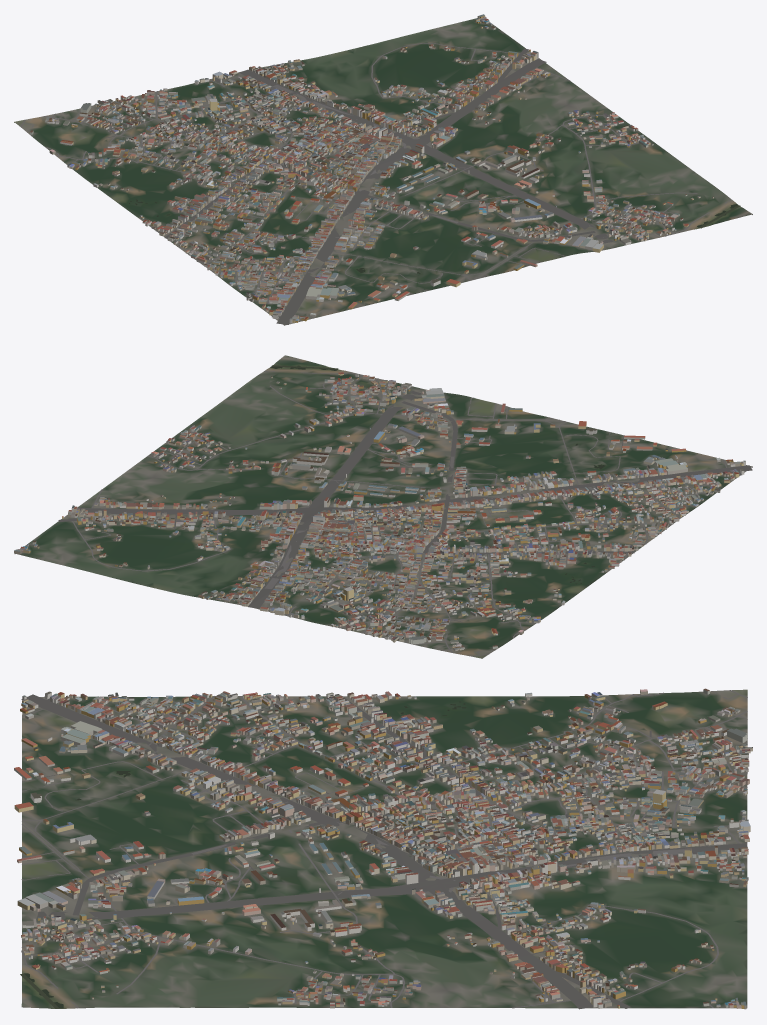
3 renders of one model, top to bottom at view 1: azimuth 30°, elevation 25°; view 2: azimuth 150°, elevation 25°; view 3: azimuth 270°, elevation 25°, orthographic. The views are drawn at different scales.
Parts seen in each view (by area): view 1: ground, buildings, roads; view 2: ground, buildings, roads; view 3: ground, buildings, roads.
Part boxes in pixels (x1,y1,x2,y2): ground: (14,18,752,325); buildings: (30,14,713,323); roads: (20,26,731,324); ground: (14,355,752,658); buildings: (14,372,745,650); roads: (27,371,752,656); ground: (21,689,747,1008); buildings: (14,688,752,1009); roads: (21,690,748,1009).
Size of the model in its own units: 1419 by 44.88 by 1428.
